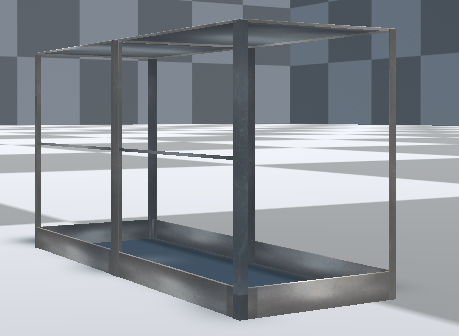Rack: (25, 16, 401, 324)
